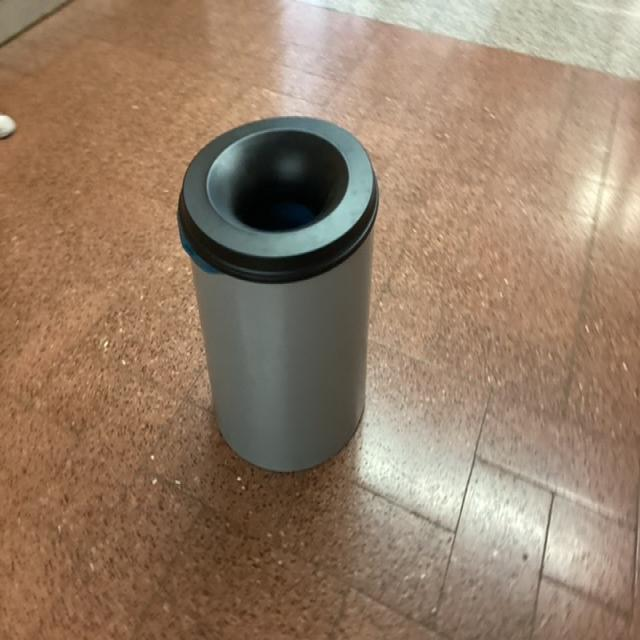garbage container: (157, 81, 391, 473)
